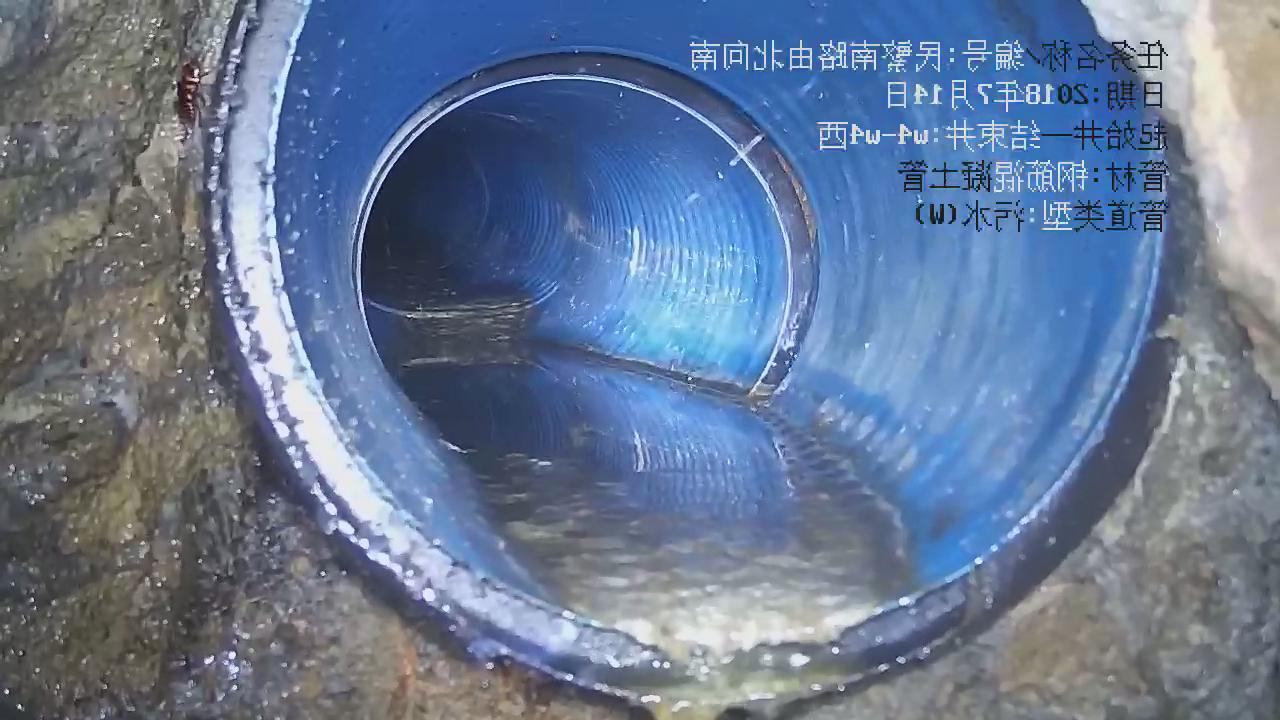CKTJ: (345, 47, 828, 412)
